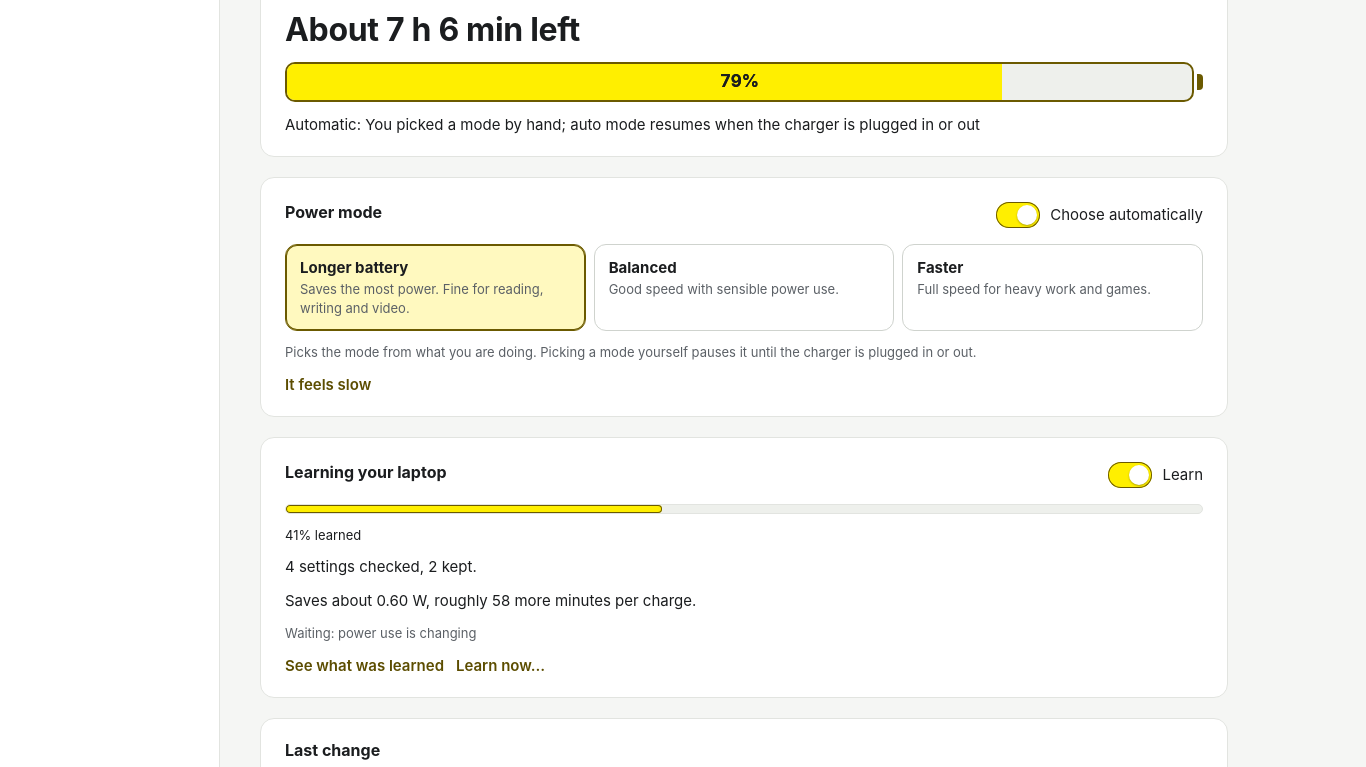
Test case: the app with the stand-in backend › makes it feel faster for the rest of the day when it feels slow
This screenshot has width=1366, height=767.
(page scrolled)
Expected: the element that starts with "Longer battery" is shown, [285,244,1203,331]
Click the button "It feels slow" at (328, 385), box [285,374,371,396]
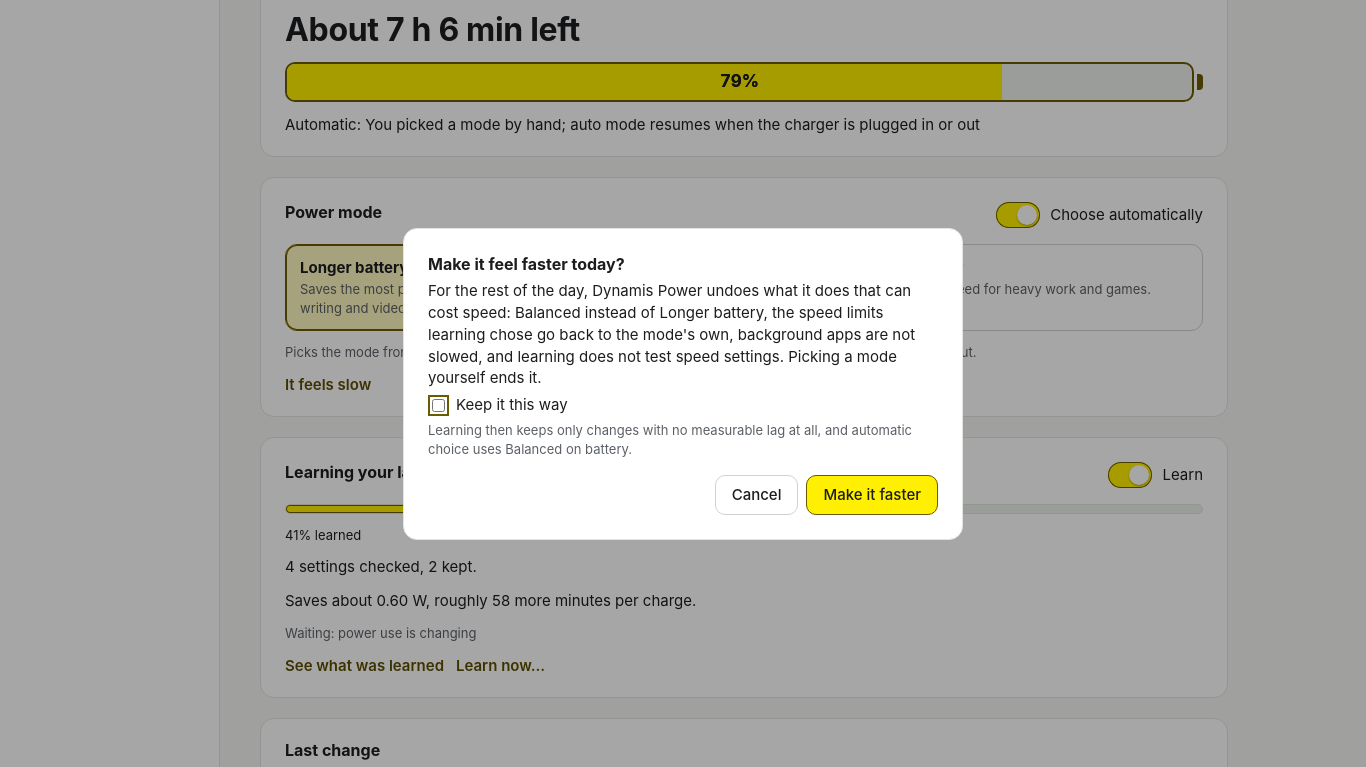
Click the button "Make it faster" at (872, 495), box [806,475,938,515]
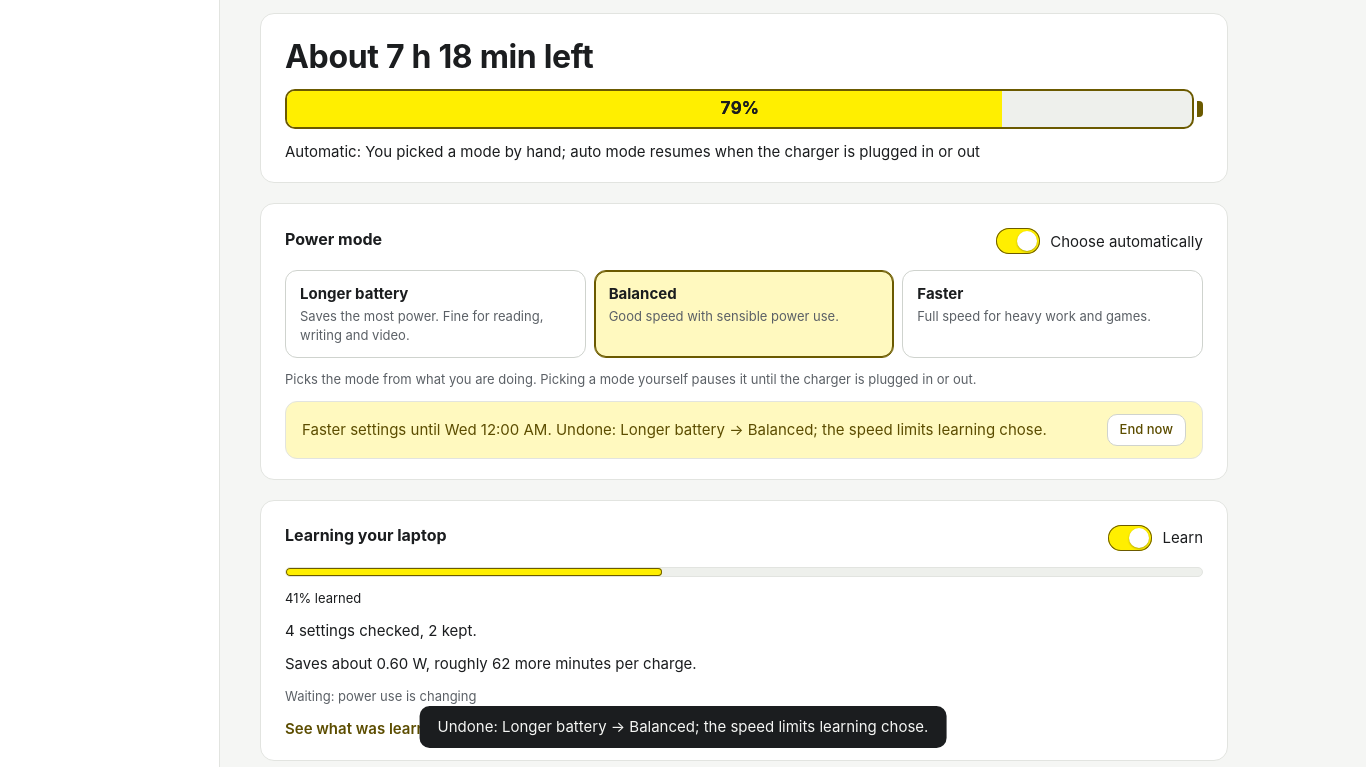
Expected: the text "Faster settings until" is shown, [302,420,552,439]
Click the button "End now" at (1146, 430), box [1107,414,1186,446]
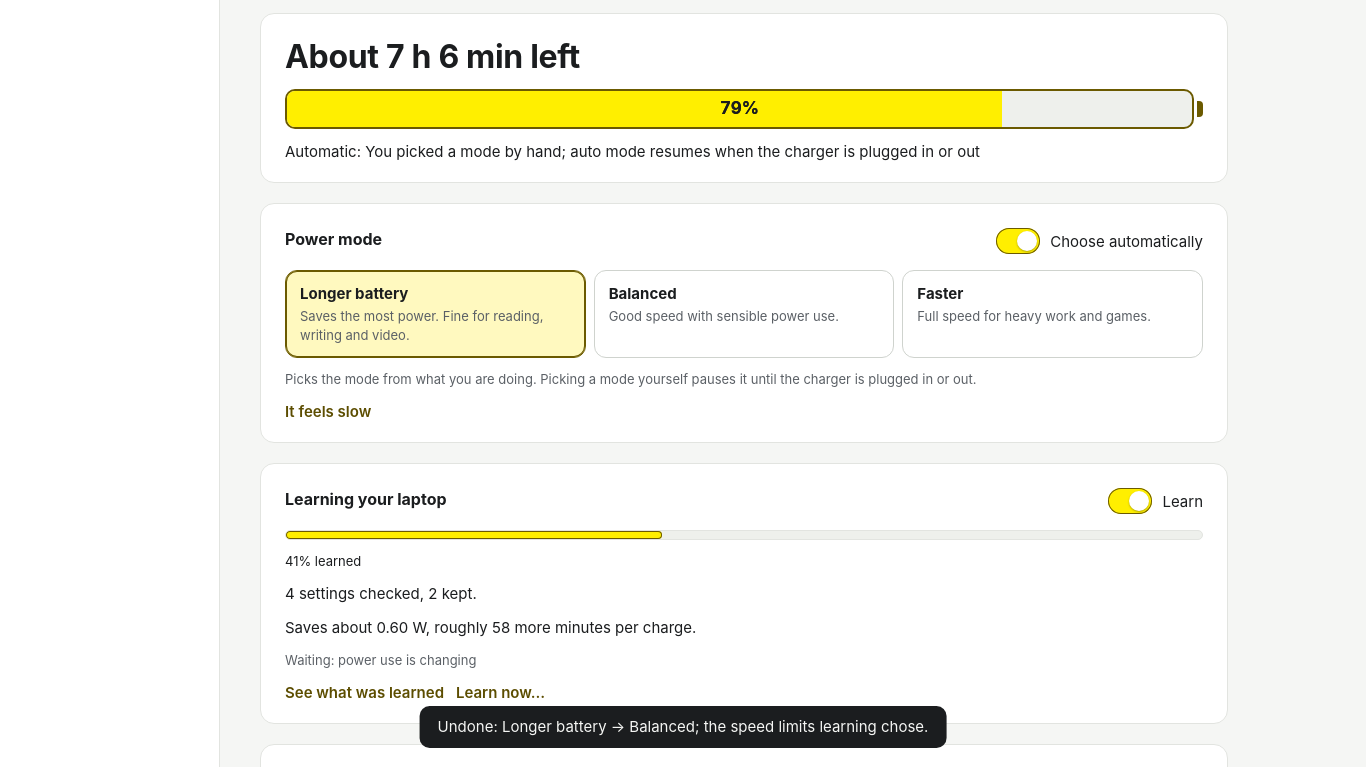
Expected: the text "Faster settings until" is gone
